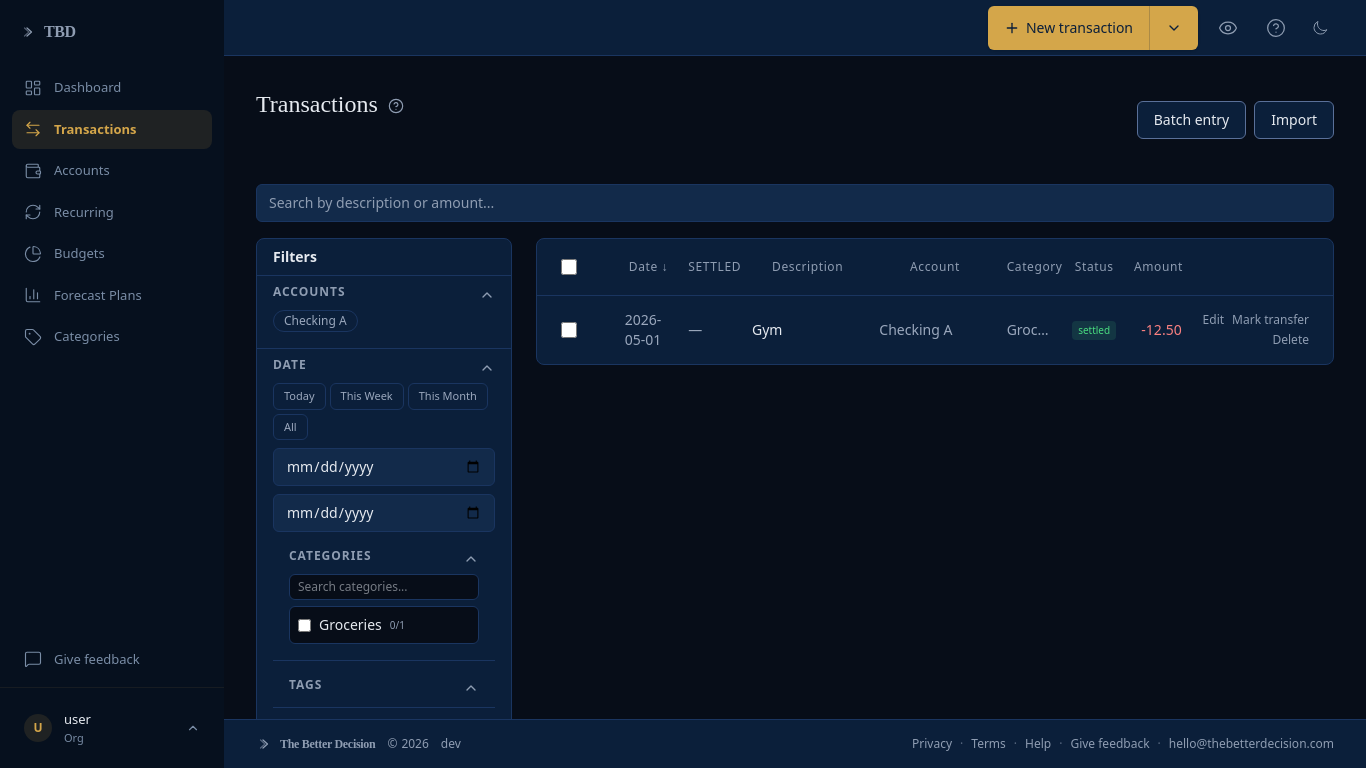
Test: TransactionsPage — recurring series pointer (TBD-277) › the pointer belongs to the edit form, not the row: absent until Edit is clicked
Click the button with aria-label "Edit:" at (1213, 320), box x1=1203 y1=312 x2=1224 y2=328
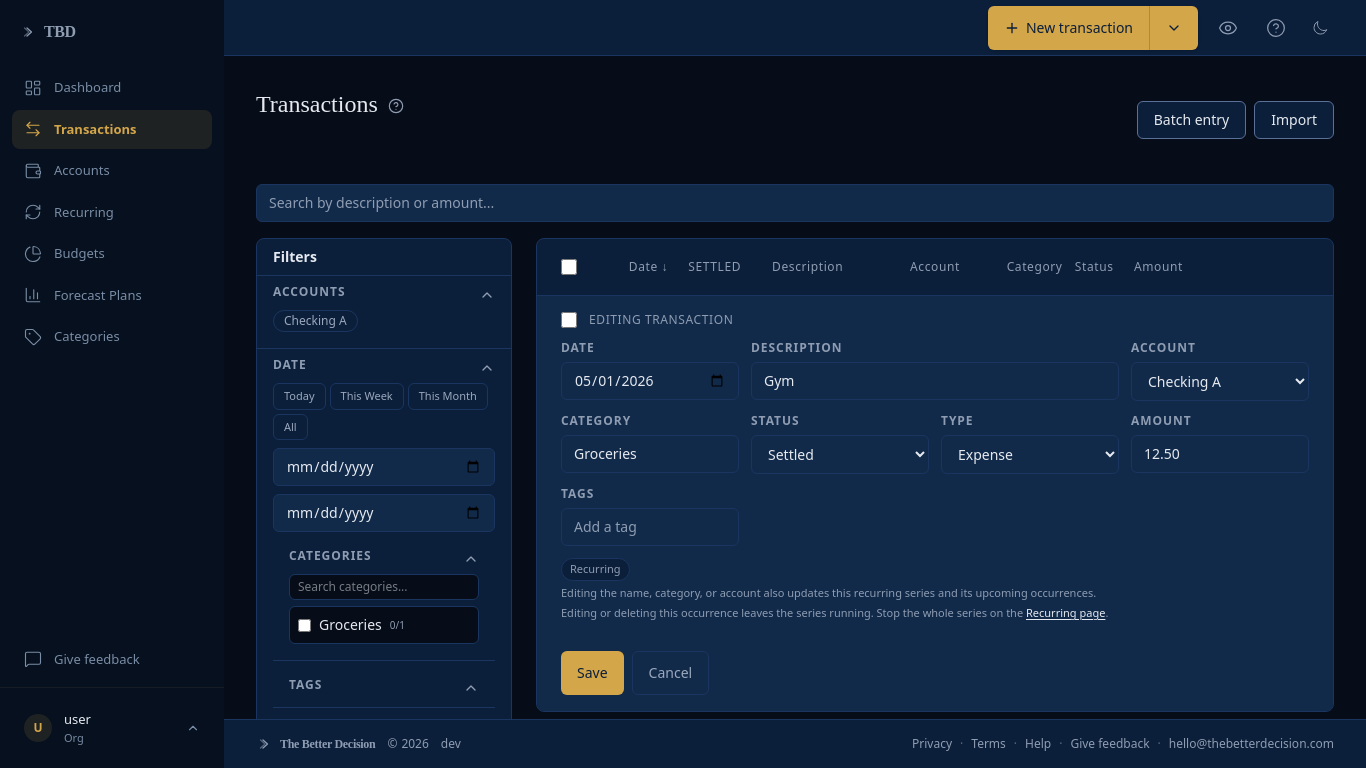
Expected: the element with test id "edit-recurring-row-204" is shown, x1=561 y1=558 x2=1108 y2=620
Expected: the text "Stop the whole series" is shown 2 times
